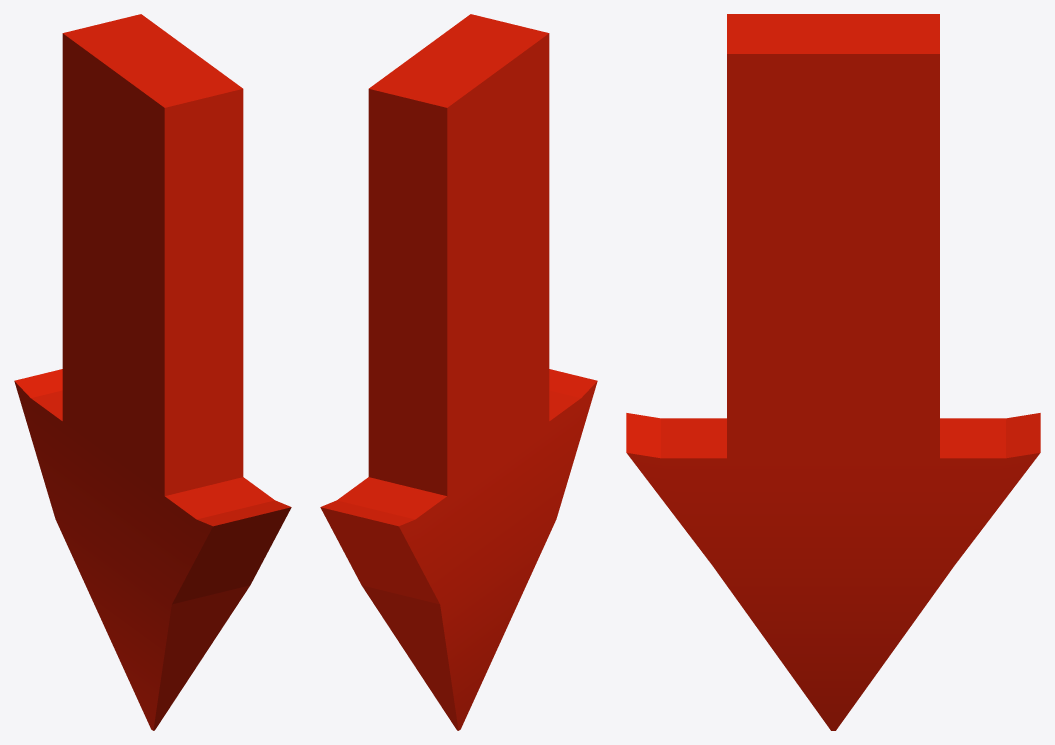
Rendered from Arrow.fbx.
The picture shows the model from 3 angles, left to right: view 1: azimuth 30°, elevation 25°; view 2: azimuth 150°, elevation 25°; view 3: azimuth 270°, elevation 25°; orthographic projection. The views are drawn at different scales.
Parts seen in each view (by area): view 1: Arror; view 2: Arror; view 3: Arror.
Boxes of the visible parts, box(x1,y1,x2,y2) form: Arror: box(14, 14, 291, 730); Arror: box(320, 14, 597, 730); Arror: box(626, 14, 1040, 730).
Size of the model in its own units: 5.61 by 45.62 by 24.58.
